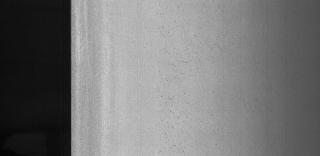silk spot: (146, 9, 214, 156)
